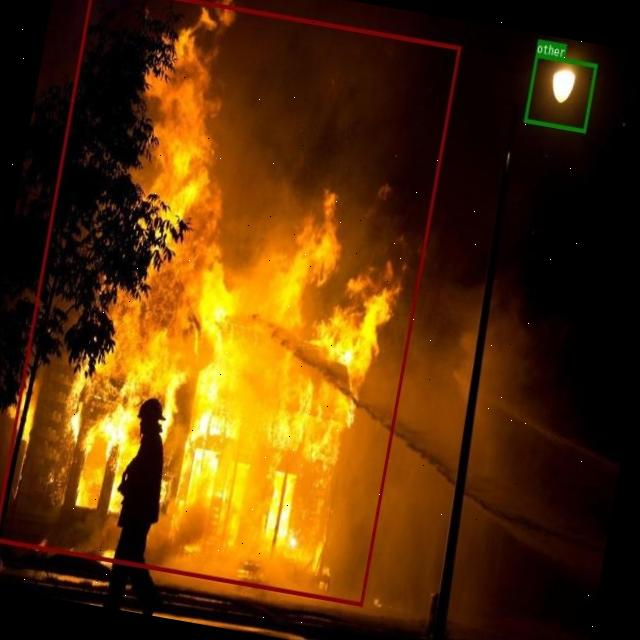fire: (0, 0, 460, 605)
